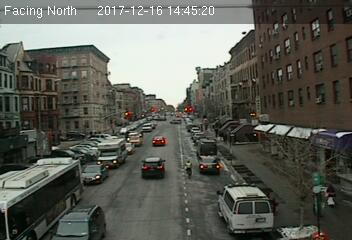bicycle: (183, 158, 192, 182)
bus: (1, 154, 81, 240)
car: (47, 204, 105, 240), (139, 156, 168, 179), (81, 163, 110, 184), (197, 155, 218, 175), (128, 135, 141, 145), (152, 136, 166, 145)
police: (216, 182, 276, 232)
truck: (97, 137, 128, 168)
